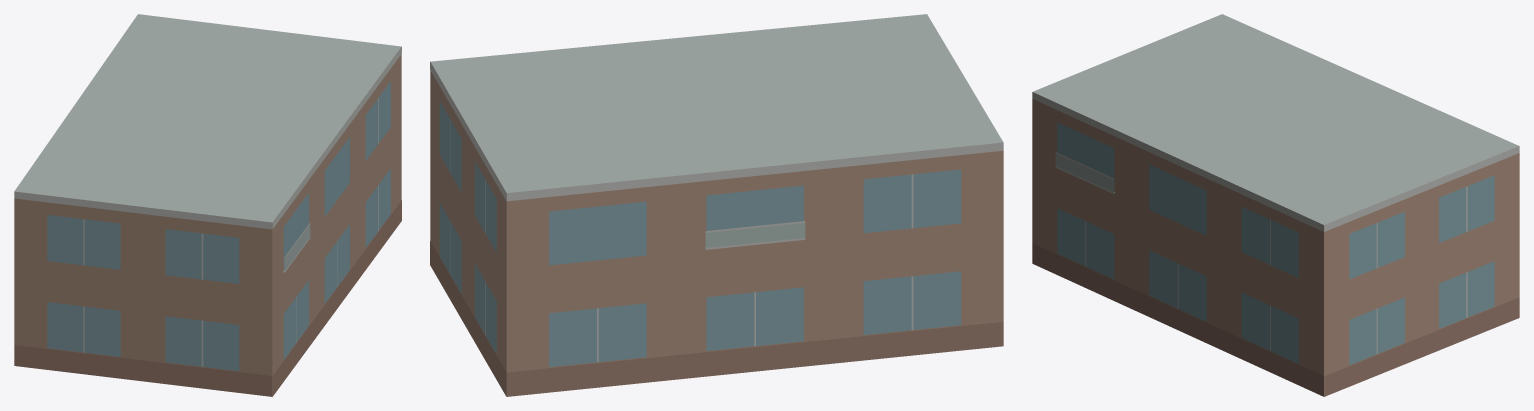
The model's file is survey-upis-32683658.glb.
The picture shows the model from 3 angles, left to right: view 1: azimuth 30°, elevation 25°; view 2: azimuth 150°, elevation 25°; view 3: azimuth 270°, elevation 25°; orthographic projection. The views are drawn at different scales.
Visible parts, largest first — view 1: survey-upis-32683658.tmp; view 2: survey-upis-32683658.tmp; view 3: survey-upis-32683658.tmp.
Part boxes in pixels (x1,y1,x2,y2): survey-upis-32683658.tmp: [14, 14, 401, 396]; survey-upis-32683658.tmp: [430, 14, 1003, 396]; survey-upis-32683658.tmp: [1032, 14, 1519, 396].
Bounding box in the file's own units: 16.09 × 6.1 × 15.69.
